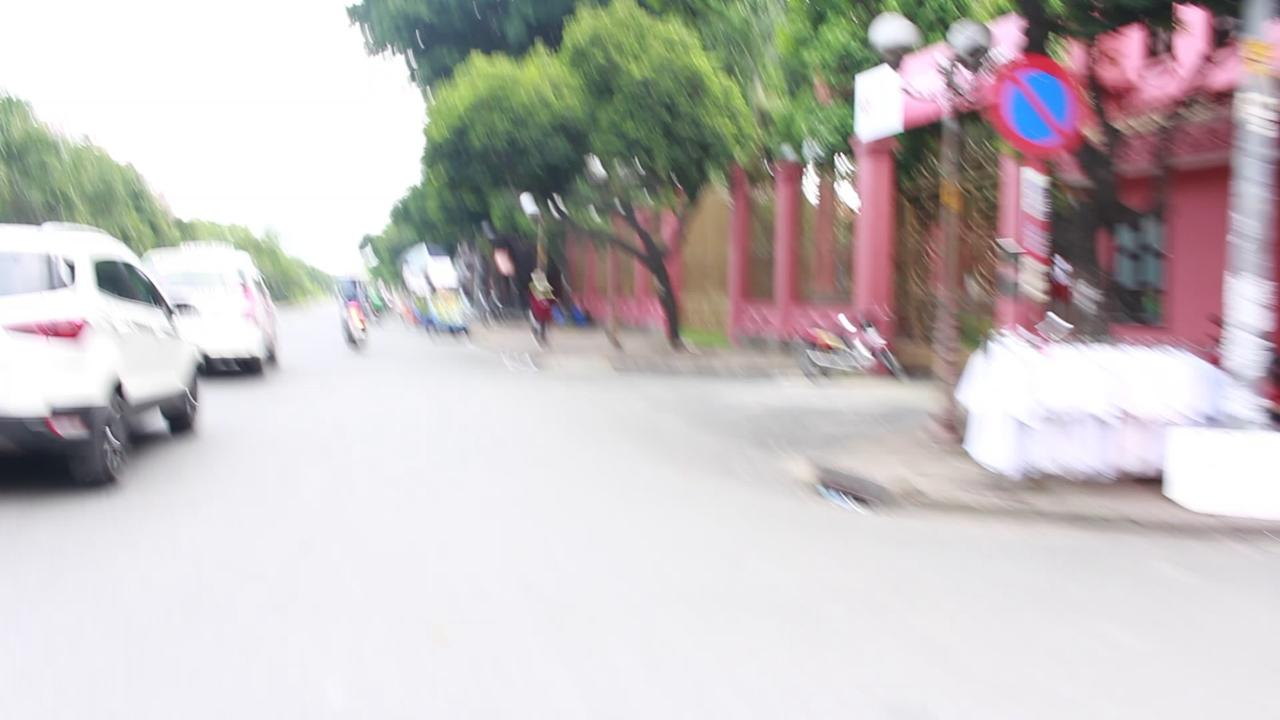P.102: (987, 52, 1081, 158)
